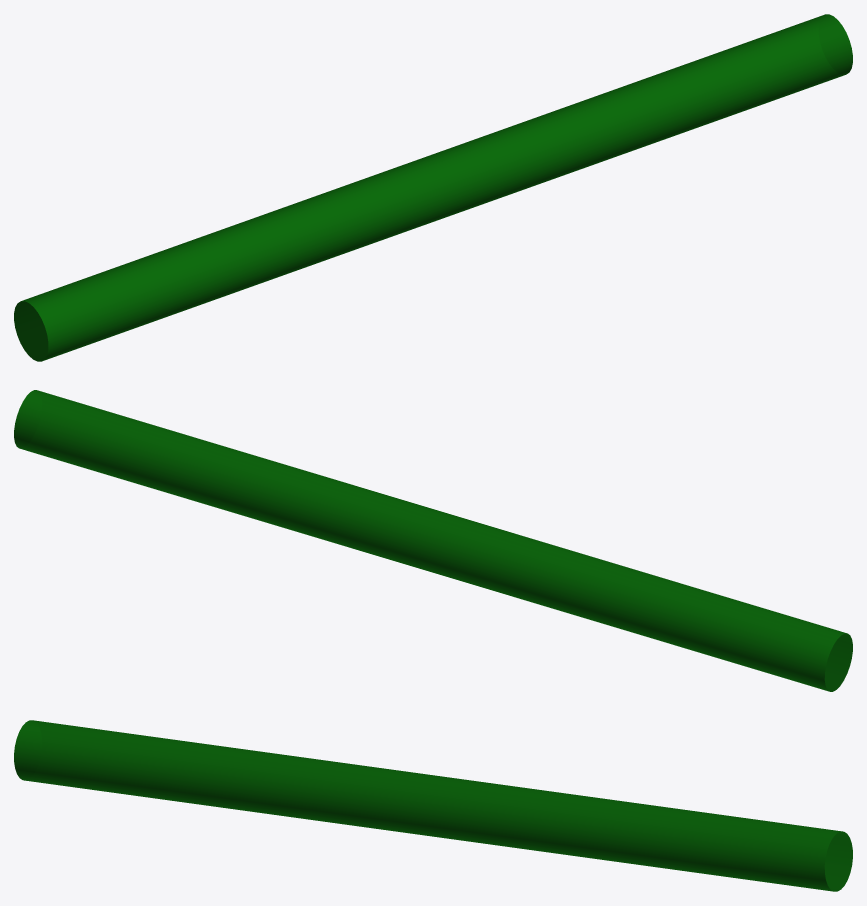
Rendered from Event_195102316_jet_2.fbx.
3 views of the same model, one above another, from view 1: azimuth 30°, elevation 25°; view 2: azimuth 150°, elevation 25°; view 3: azimuth 330°, elevation 25° (orthographic). The views are drawn at different scales.
Parts seen in each view (by area): view 1: Model; view 2: Model; view 3: Model.
Boxes of the visible parts, x1,y1,x2,y2 form: Model: (14,14,852,361); Model: (14,390,852,691); Model: (14,720,852,891).
Size of the model in its own units: 0.6016 by 0.0877 by 0.0675.
